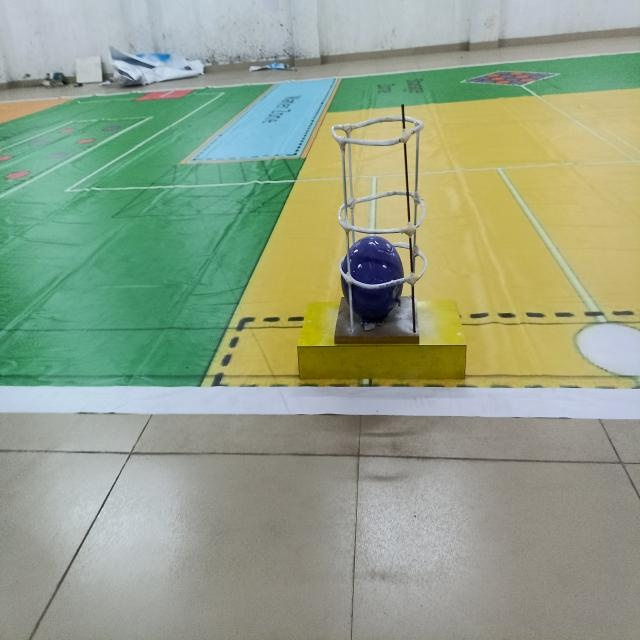purple_ball: (342, 235, 403, 312)
silo: (332, 116, 426, 347)
